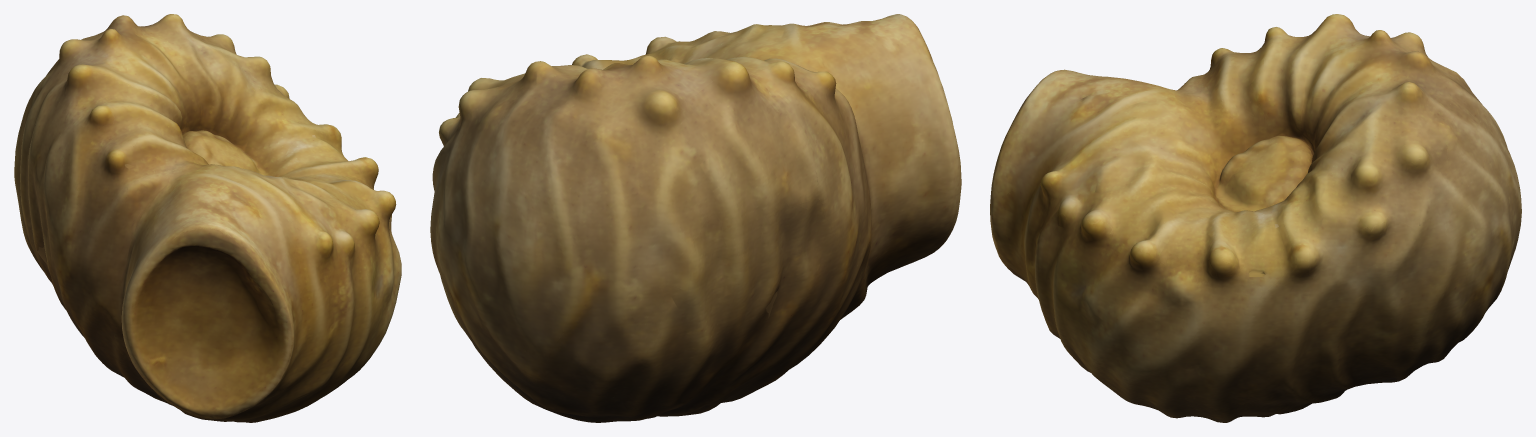
The picture shows the model from 3 angles, left to right: view 1: azimuth 30°, elevation 25°; view 2: azimuth 150°, elevation 25°; view 3: azimuth 270°, elevation 25°; orthographic projection. The views are drawn at different scales.
Parts seen in each view (by area): view 1: world; view 2: world; view 3: world.
Part boxes in pixels (x1,y1,x2,y2): world: (14, 14, 401, 422); world: (430, 14, 961, 422); world: (990, 14, 1521, 422).
Bounding box in the file's own units: 0.0867 × 0.0875 × 0.12.
1 material, 1 textured.
